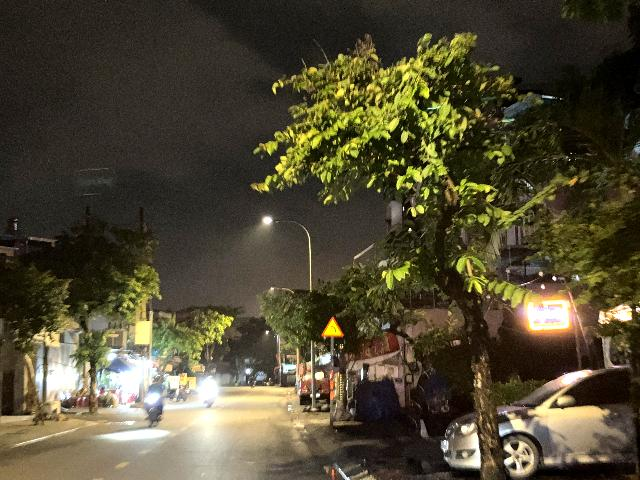cho-ngoat-nguy-hiem-ben-trai: (321, 316, 344, 337)
